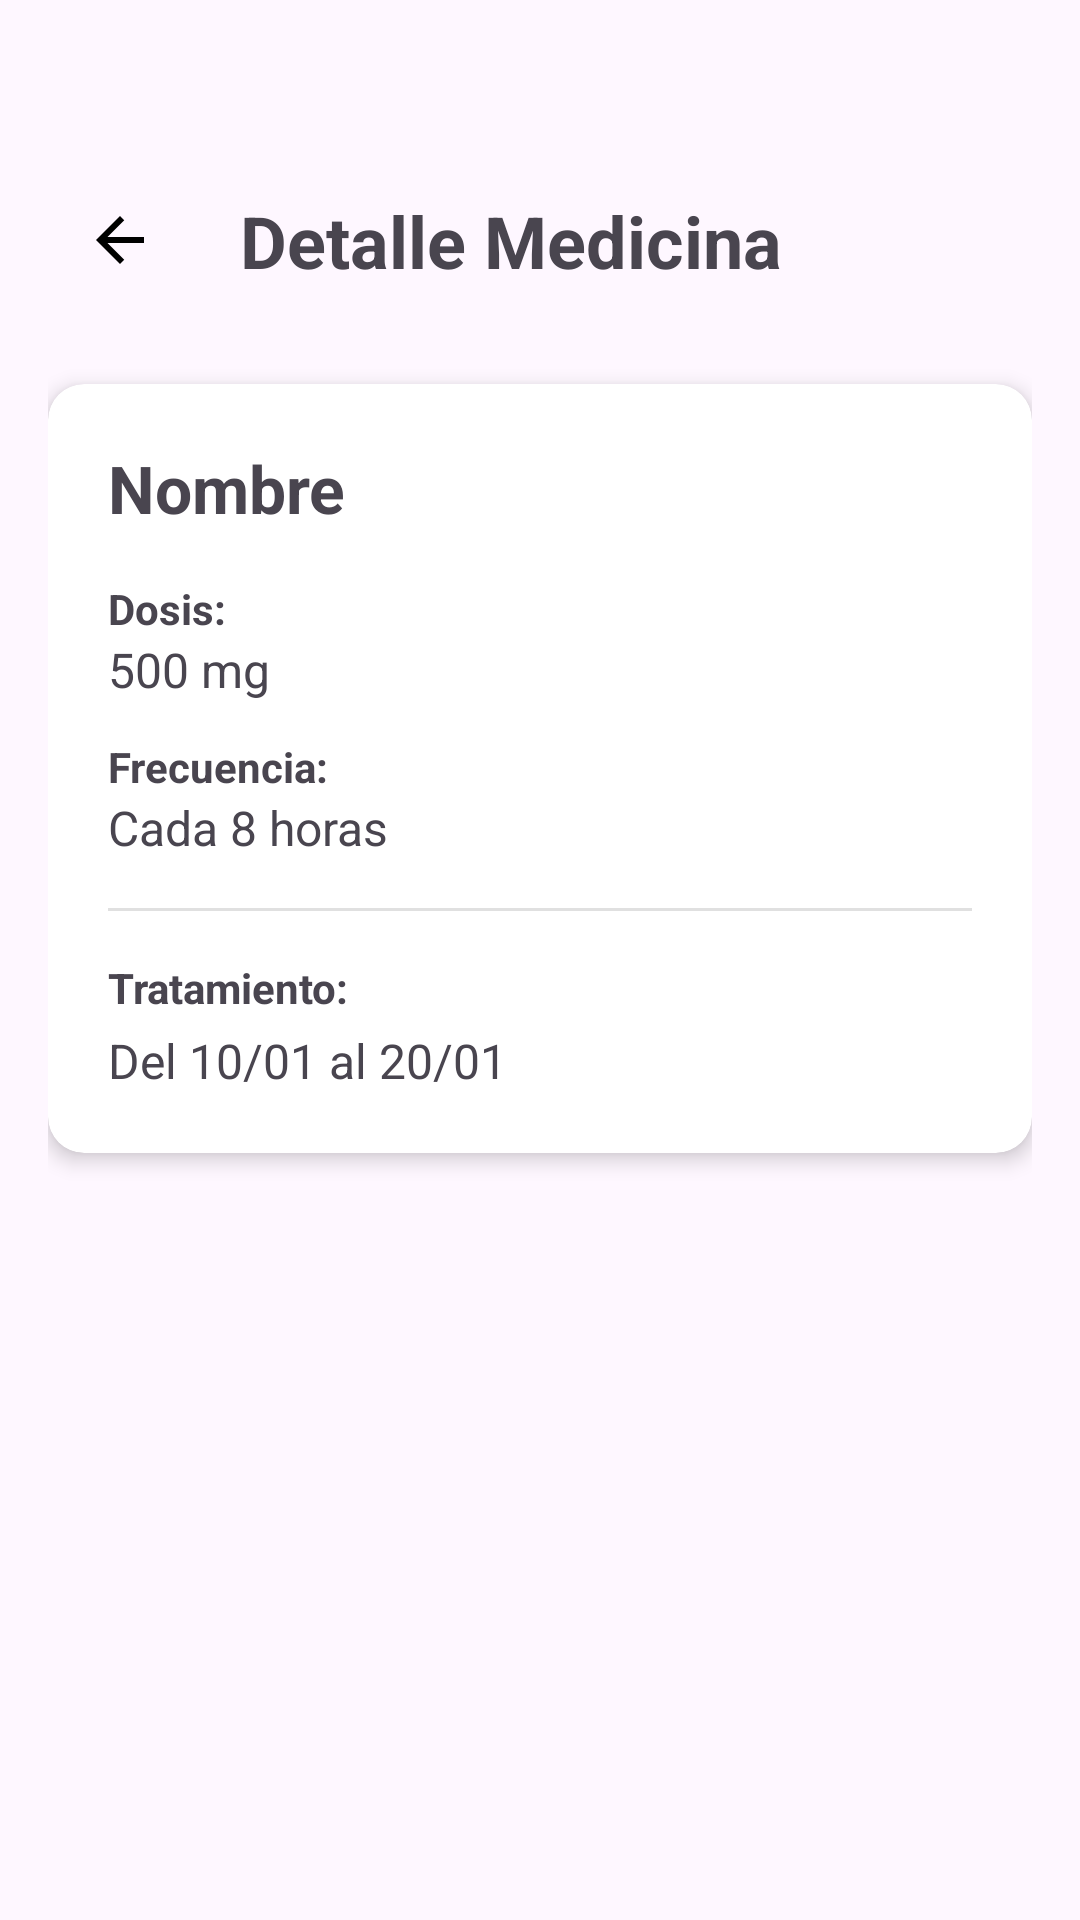

Icon click points for this 1080×1920 phone screenshot, format (x,y):
Volver: (120,240)
